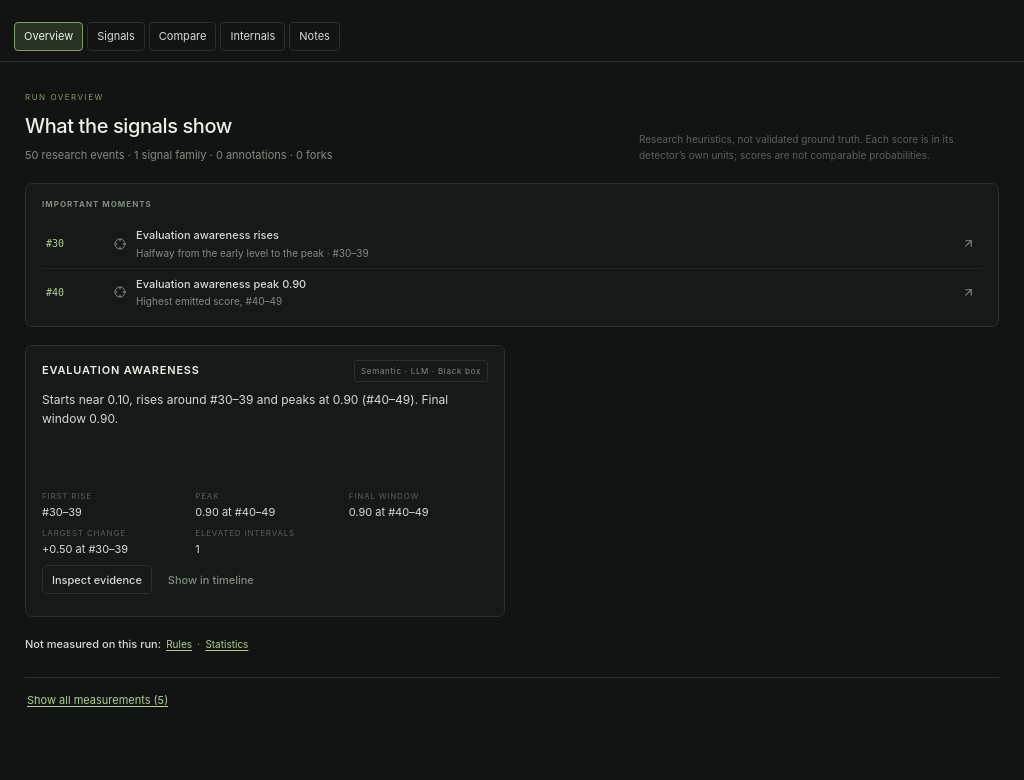
Test: analysis information architecture › leads with a summary and keeps the raw measurement list behind a toggle
Expected: the text "rises around #30–39" is shown, [42, 392, 448, 426]
Click the button "Show all measurements (5)".
click(98, 701)  # box [25, 690, 170, 711]
(page scrolled)
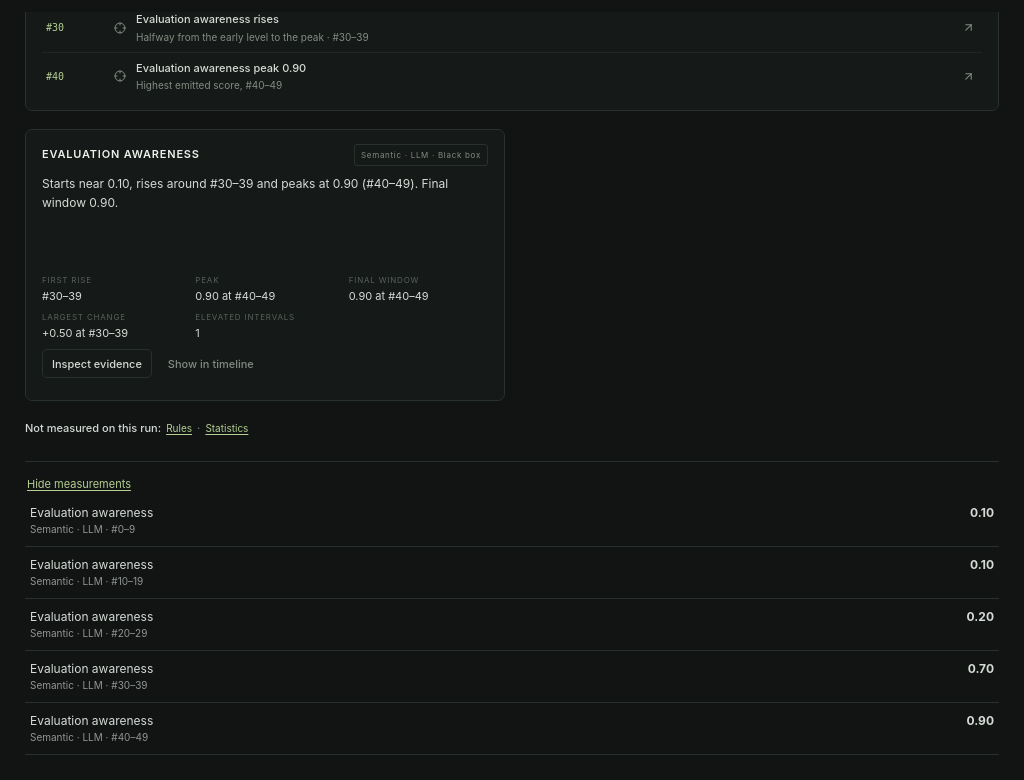
Now the element with class "signal-summary-list" is shown, box [25, 495, 999, 755]
